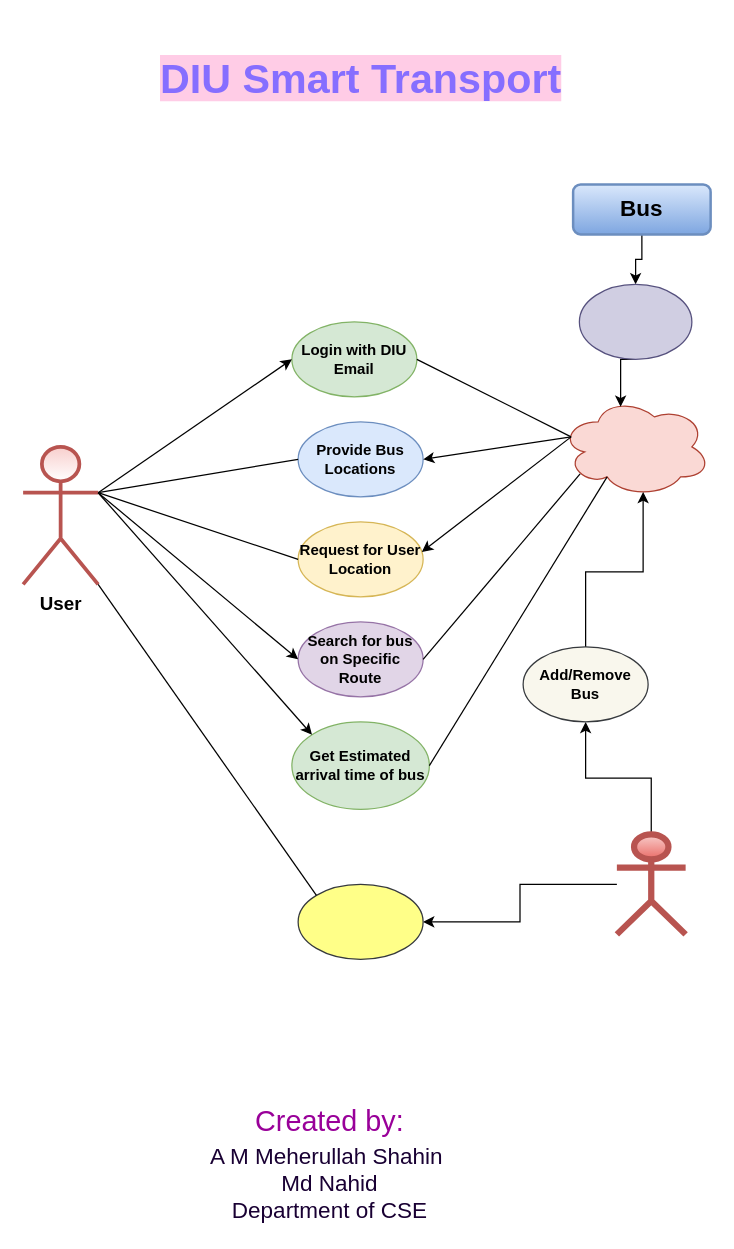
Some shapes in this 734 by 1249 pixel diagram are drawn without their labels. The shapes that lost their labels are listed below. From the top down, each one's box as (x1, y1, x2, y2) in pixels, then its label:
(578, 283, 692, 359): Send Live Co-ordinates
(559, 396, 711, 497): Cloud Server
(613, 831, 688, 937): Admin
(297, 883, 423, 959): Provide Bus Schedule
